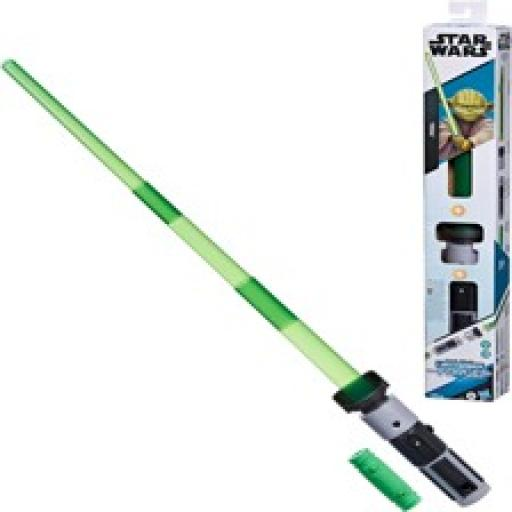lightsaber: (5, 58, 490, 503)
